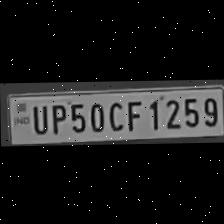0: (86, 99, 104, 130)
1: (142, 96, 160, 130)
2: (160, 94, 180, 130)
5: (178, 92, 198, 126), (66, 99, 86, 132)
9: (198, 93, 220, 126)
C: (104, 97, 124, 130)
F: (122, 96, 142, 130)
P: (47, 99, 66, 133)
U: (27, 101, 47, 134)
